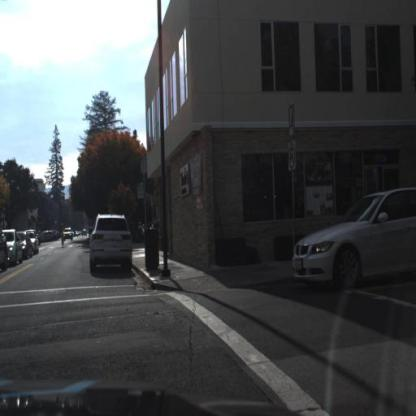car: (291, 185, 416, 287), (89, 210, 132, 278)
